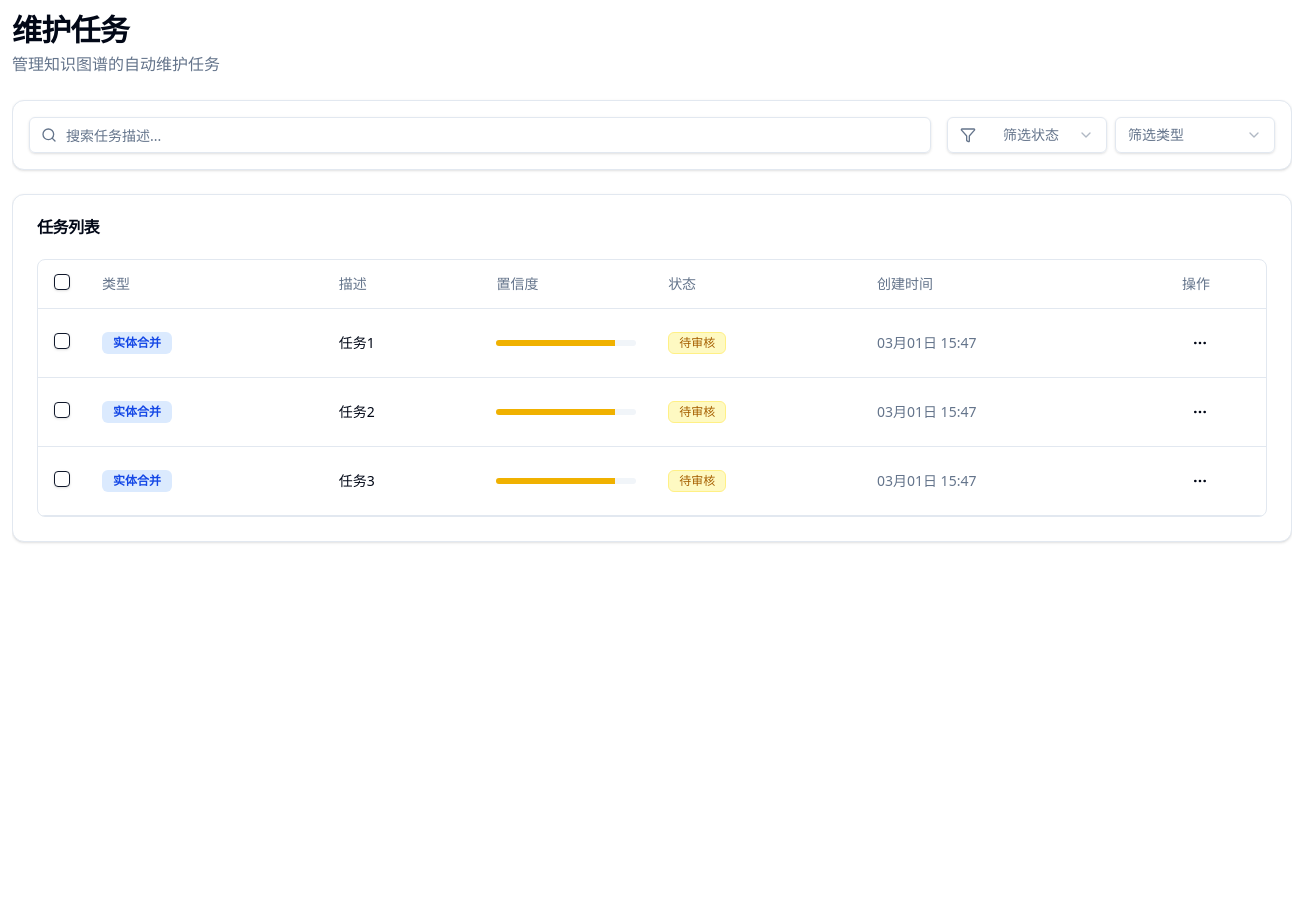
Scenario: TasksPage Integration Tests › 组件交互测试 › 应该支持批量选择
Check: the button "任务1" is shown, box [339, 332, 375, 352]
Click the checkbox in the row of "描述": (62, 282) [54, 274, 70, 290]
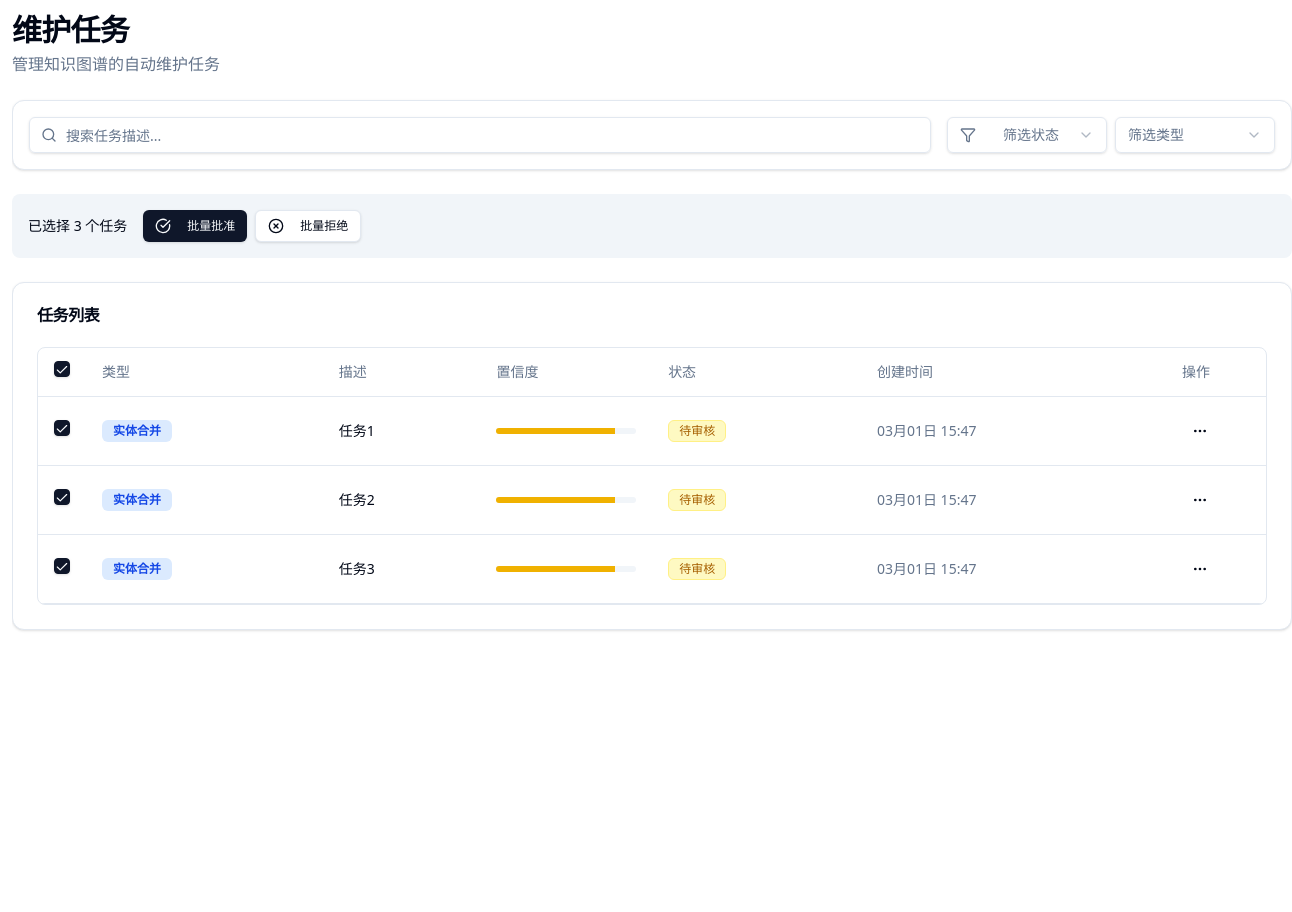
Check: the text "已选择 3 个任务" is shown, box [28, 216, 127, 236]
